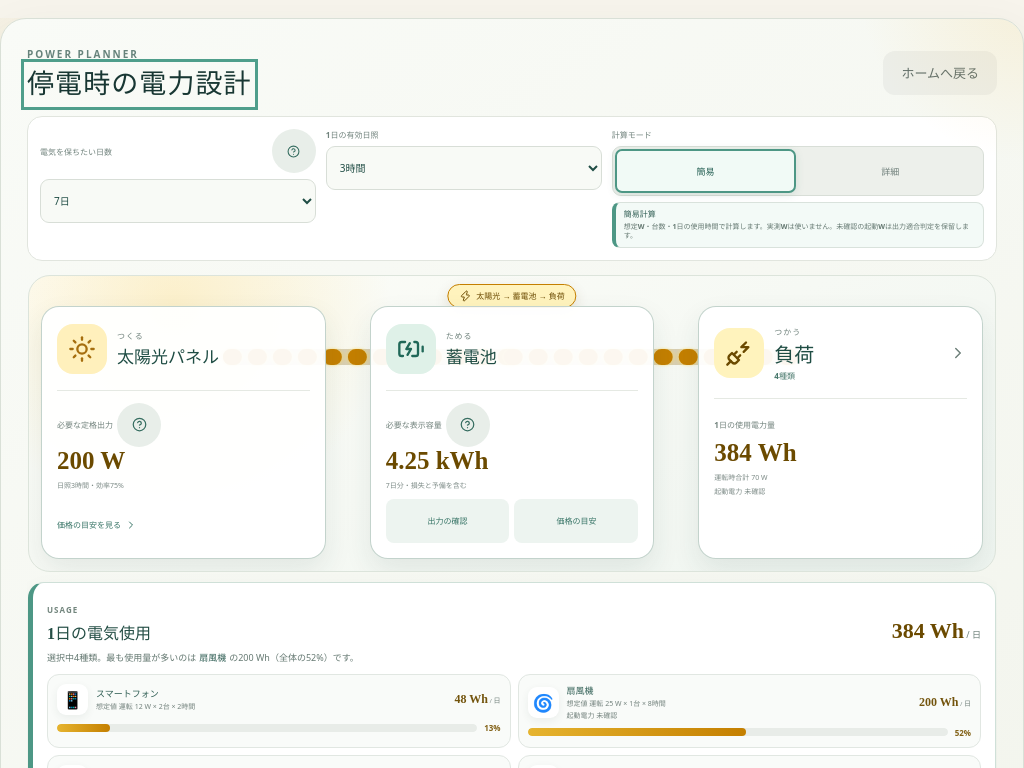
it: 停電時の電力設計 › 容量・発電・価格の内容別補足を開ける
The image size is (1024, 768).
Step 1. Click the button named "蓄電池容量の補足" → [468, 425], box [446,403,490,447]
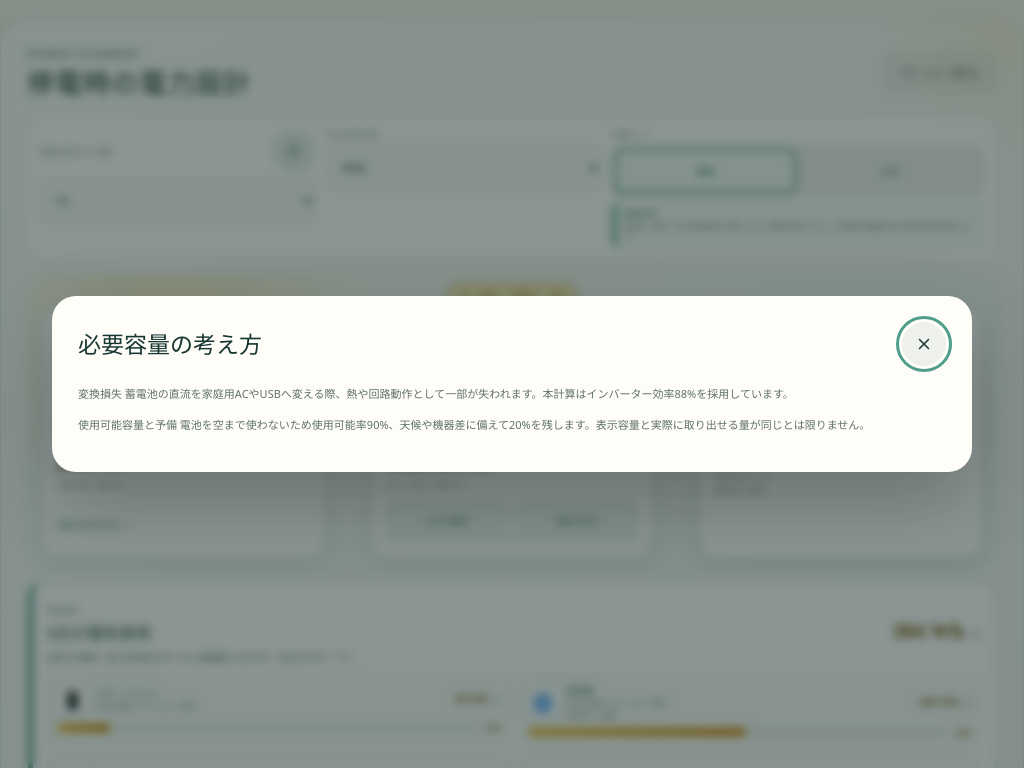
Expected: the text "使用可能率90%" is shown, [177,417,870,432]
Step 2. Click the button named "補足を閉じる" → [924, 344], box [902,322,946,366]
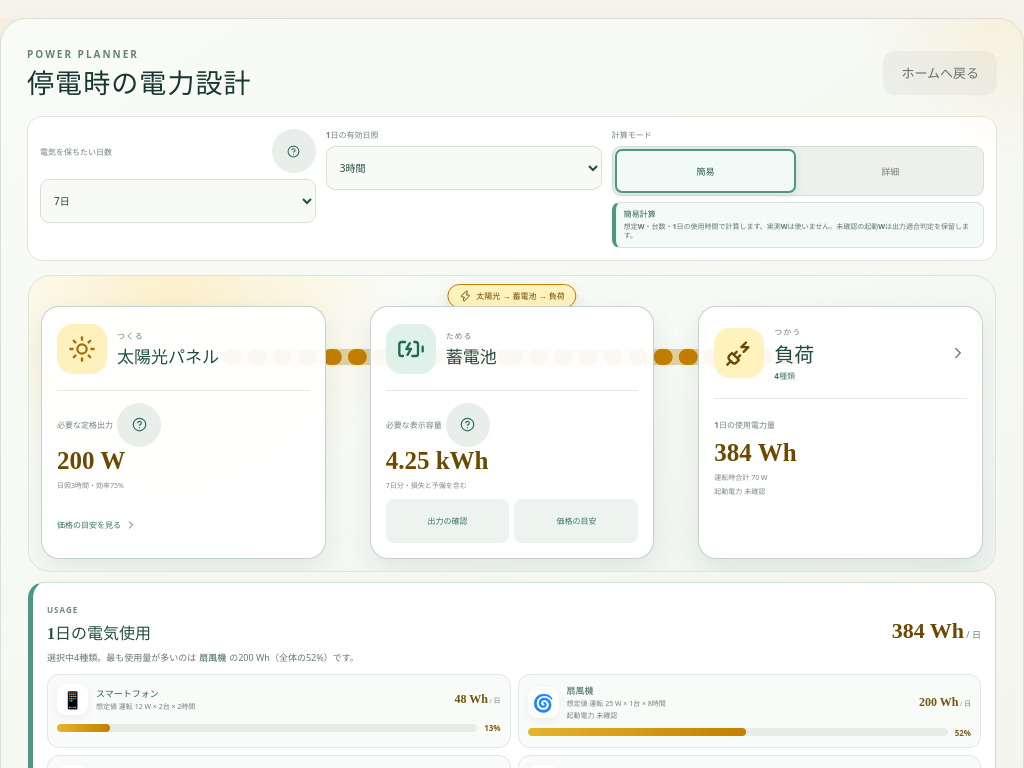
Step 3. Click the button named "太陽光発電条件の補足" → [139, 425], box [117,403,161,447]
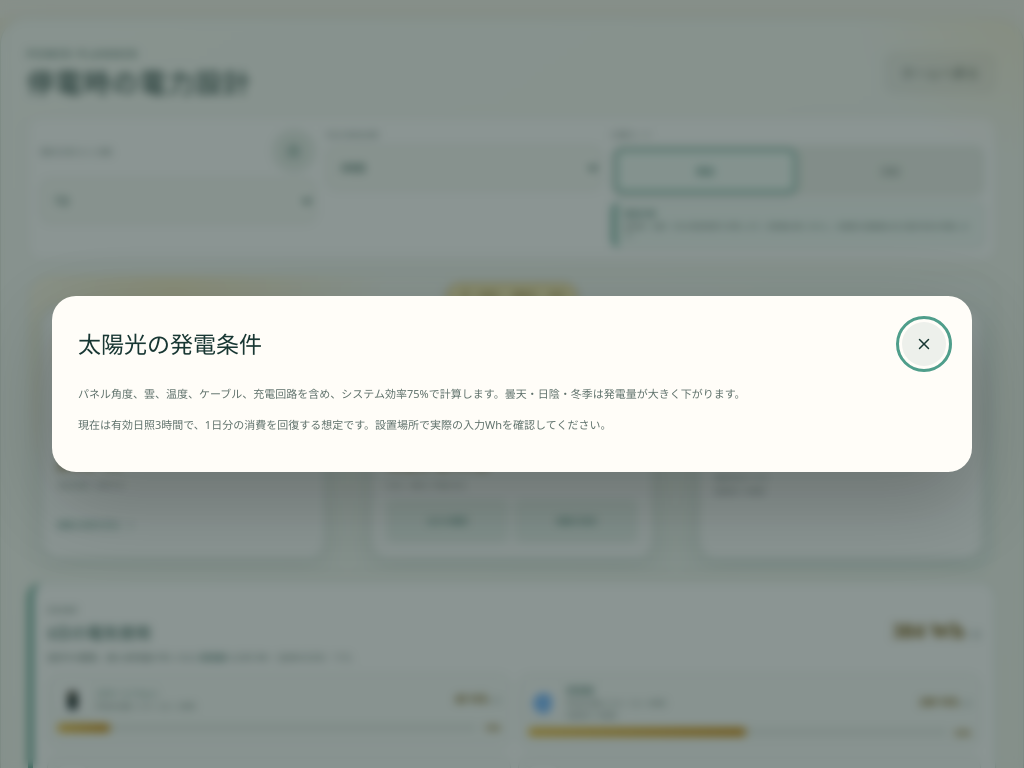
Expected: the text "システム効率75%" is shown, [78,386,746,401]
Step 4. Press Escape
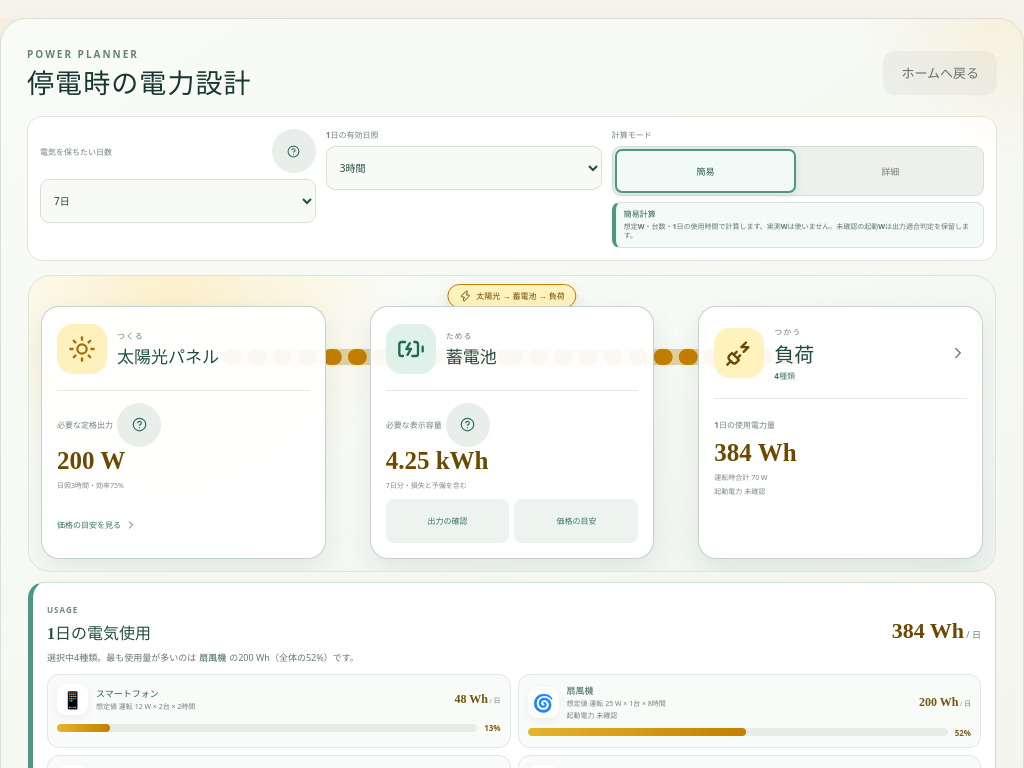
Step 5. Click the button with aria-label "蓄電池価格の補足" → [576, 521], box [514,499,638,543]
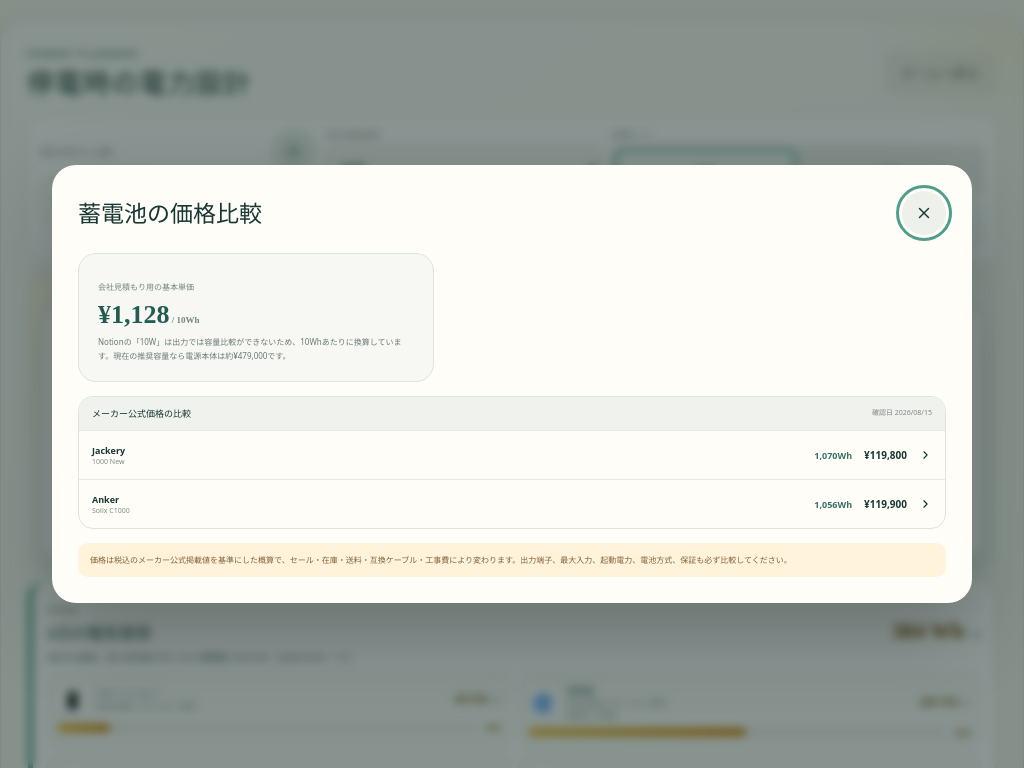
Expected: the text "メーカー公式価格の比較" is shown, [92,407,191,420]
